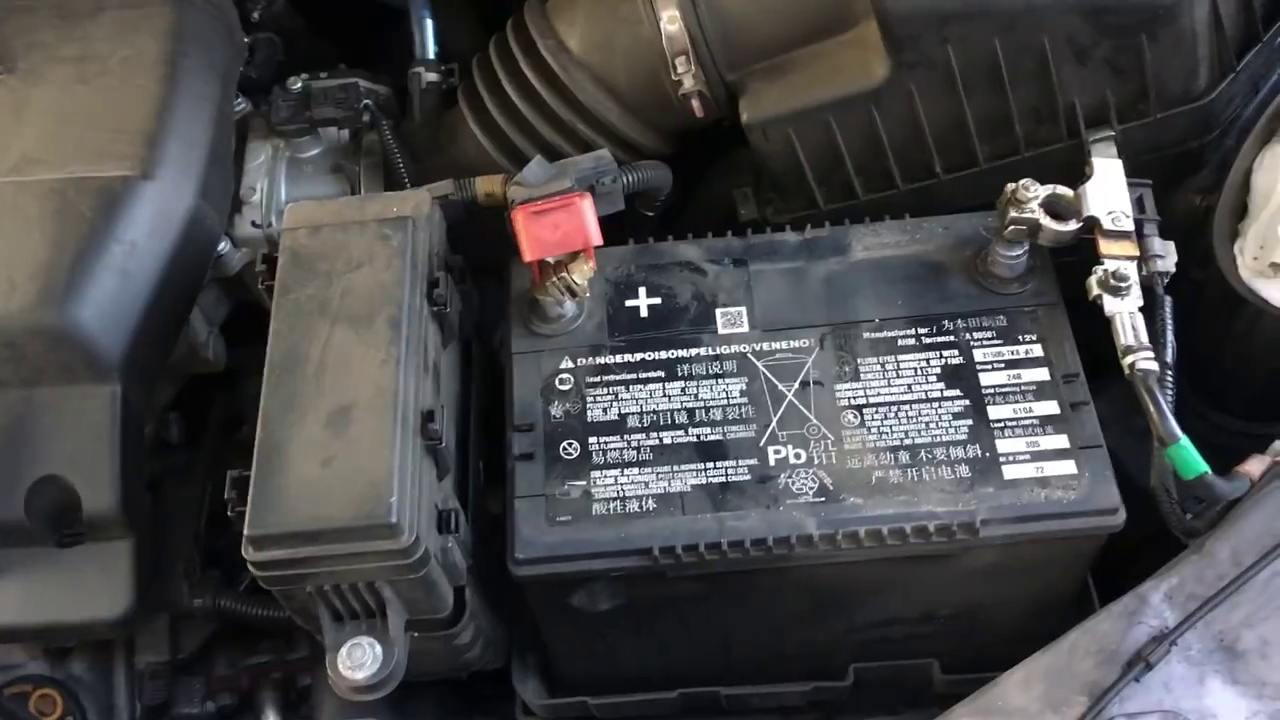battery: (489, 199, 1136, 544)
neg_disconnected: (959, 158, 1174, 323)
pos_connected: (497, 166, 613, 340)
